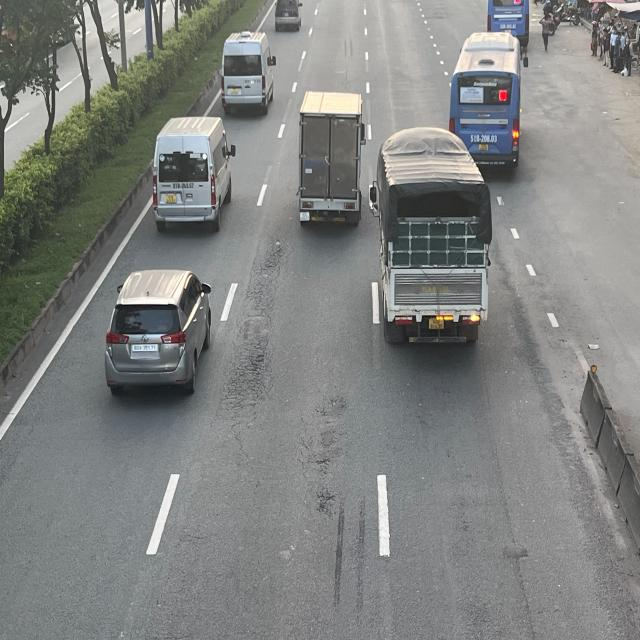car: (103, 270, 212, 398), (275, 0, 303, 31)
coach: (451, 30, 529, 170), (486, 0, 531, 42)
truck: (373, 129, 495, 349), (299, 90, 369, 228)
van: (154, 115, 239, 232), (223, 32, 278, 116)
